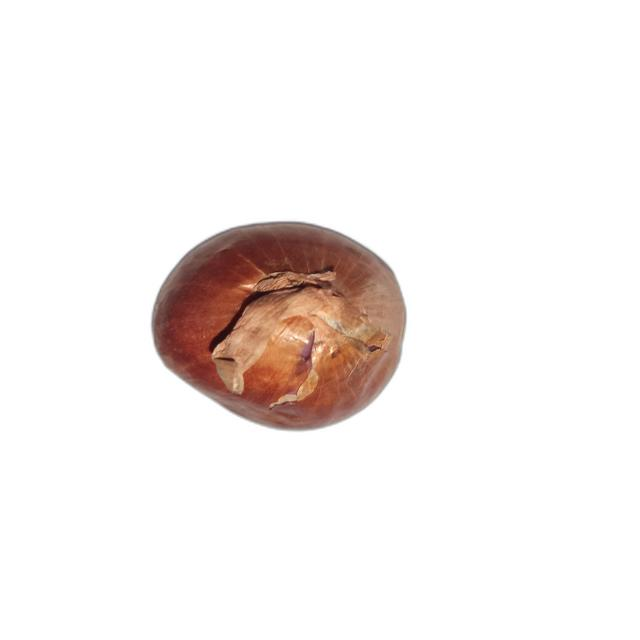onion: (150, 221, 408, 433)
